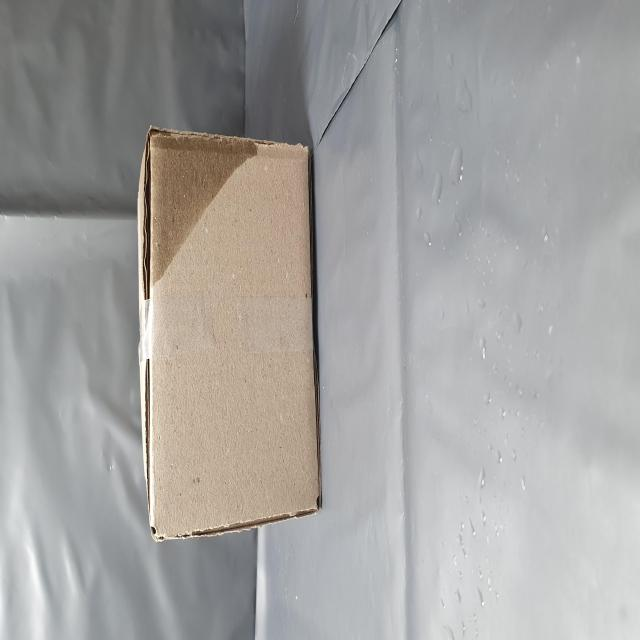wet: (204, 240, 293, 474)
